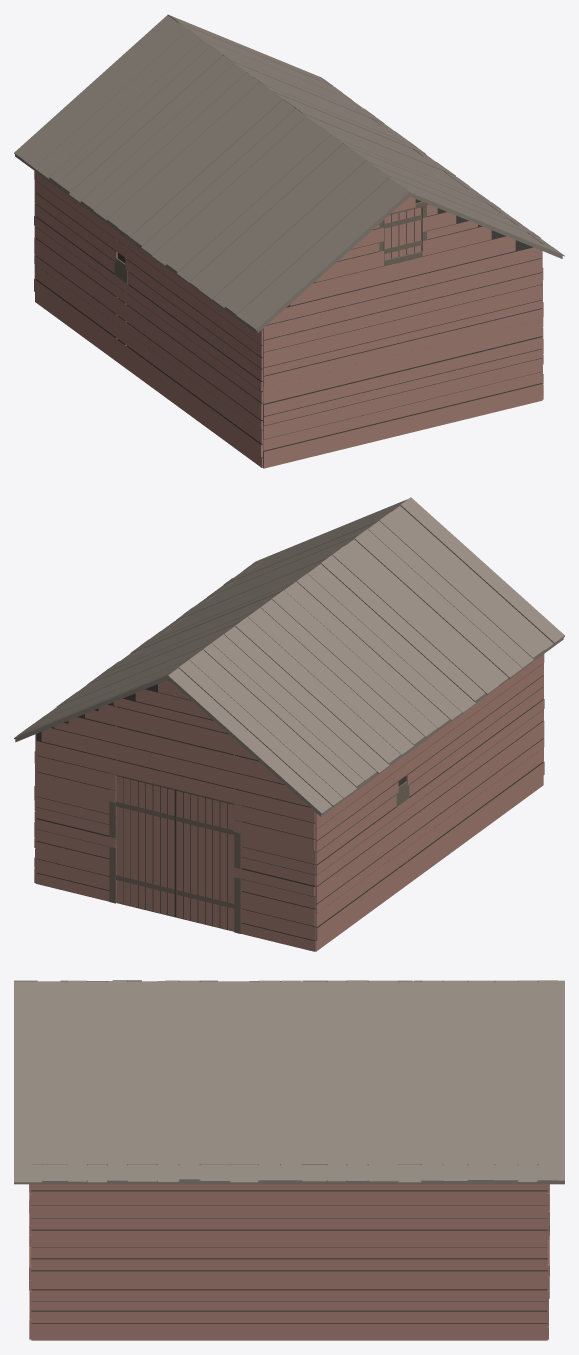
Rendered from recon_1835_north_a2_033__inferred_1835.glb.
The picture shows the model from 3 angles, top to bottom: view 1: azimuth 30°, elevation 25°; view 2: azimuth 150°, elevation 25°; view 3: azimuth 270°, elevation 25°; orthographic projection. The views are drawn at different scales.
Visible parts, largest first — view 1: recon_1835_north_a2_033__inferred_1835; view 2: recon_1835_north_a2_033__inferred_1835; view 3: recon_1835_north_a2_033__inferred_1835.
Part boxes in pixels (bbox=[...]): recon_1835_north_a2_033__inferred_1835: bbox=[14, 14, 564, 468]; recon_1835_north_a2_033__inferred_1835: bbox=[14, 497, 564, 951]; recon_1835_north_a2_033__inferred_1835: bbox=[14, 980, 564, 1340].
Bounding box in the file's own units: 7.6 × 5.81 × 10.3.
